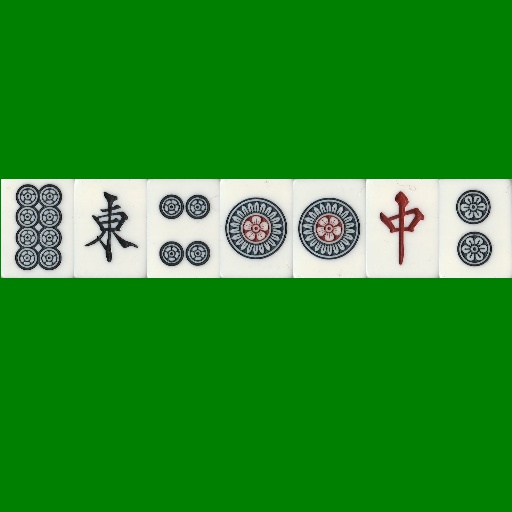1p: (220, 179, 293, 278), (293, 179, 366, 278)
2p: (439, 179, 512, 278)
4p: (147, 179, 220, 278)
8p: (1, 179, 74, 278)
east: (74, 179, 147, 278)
tyun: (366, 179, 439, 278)
